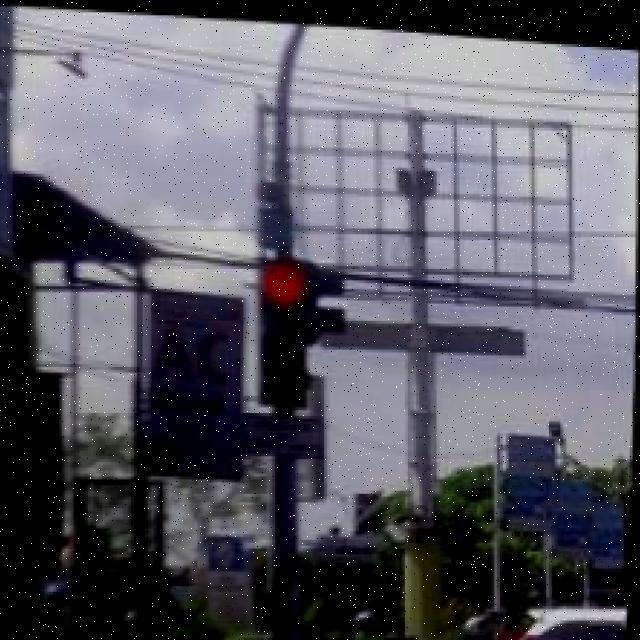Lampu Merah: (252, 250, 315, 403)
